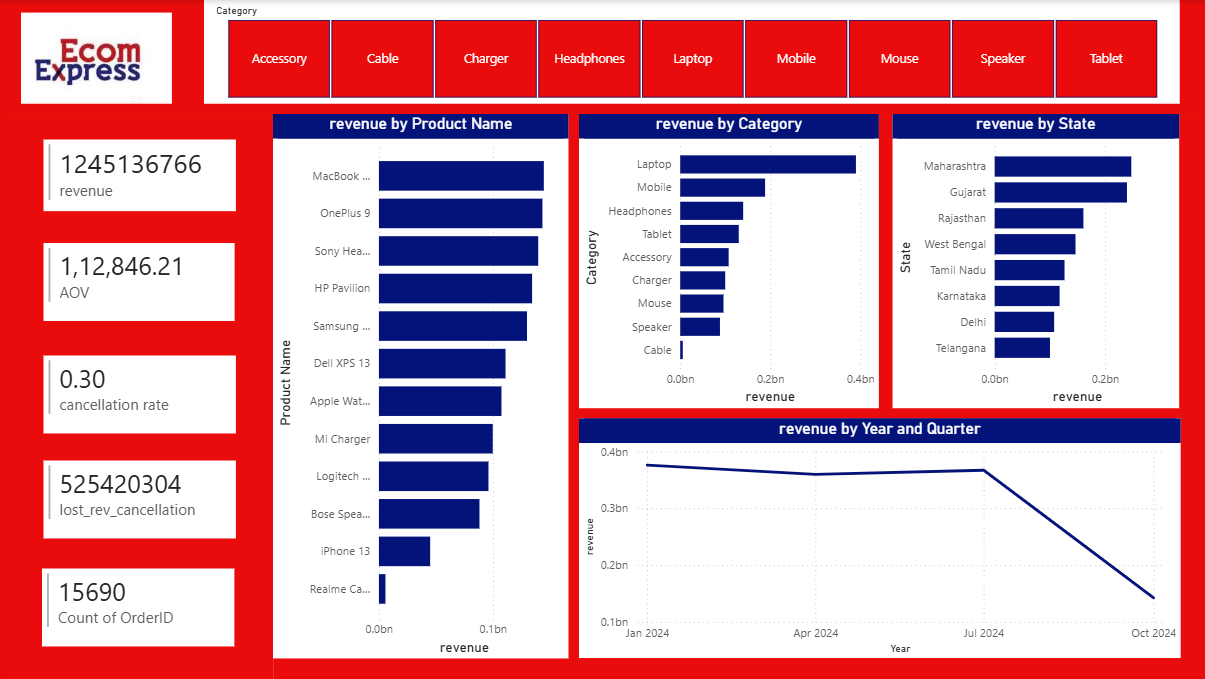

The page's visual inventory and layout, read from the dashboard file:
{"tool":"powerbi","page":{"name":"Page 1","canvas":[1280,720],"ordinal":0},"visuals":[{"type":"shape","box":[9.4,0,1269.9,120.9],"z":0},{"type":"image","box":[25.9,0,160.3,123.1],"z":1000},{"type":"shape","box":[9.7,121.4,283.4,599.1],"z":2000},{"type":"barChart","fields":{"Y":["table.revenue"],"Category":["Products.Product Name"]},"box":[292.7,120.9,313.4,577.4],"z":3000},{"type":"barChart","fields":{"Y":["table.revenue"],"Category":["Products.Category"]},"box":[617.2,120.9,318.1,311.8],"z":4000},{"type":"slicer","fields":{"Values":["Products.Category"]},"box":[220.2,0,1034.7,110.1],"z":5000},{"type":"barChart","fields":{"Category":["Customers.State"],"Y":["table.revenue"]},"box":[949.6,120.9,303.8,311.8],"z":6000},{"type":"lineChart","fields":{"Y":["table.revenue"],"Category":["Orders.Date and time of purchase.Variation.Date Hierarchy.Year","Orders.Date and time of purchase.Variation.Date Hierarchy.Quarter","Orders.Date and time of purchase.Variation.Date Hierarchy.Month","Orders.Date and time of purchase.Variation.Date Hierarchy.Day"]},"box":[616.9,443.7,638,254.2],"z":7000},{"type":"multiRowCard","fields":{"Values":["table.revenue"]},"box":[48.6,147.3,204,76.1],"z":8000},{"type":"multiRowCard","fields":{"Values":["table.AOV"]},"box":[48.6,257.5,202.4,82.6],"z":9000},{"type":"multiRowCard","fields":{"Values":["table.cancellation rate"]},"box":[48.6,377.3,204,82.6],"z":10000},{"type":"multiRowCard","fields":{"Values":["table.lost_rev_cancellation"]},"box":[48.6,489,204,82.6],"z":11000},{"type":"multiRowCard","fields":{"Values":["CountNonNull(Orders.OrderID)"]},"box":[47,602.4,204,82.6],"z":12000}]}

Visuals, with their boxes in screenshot pixels (x1, y1, x2, y2), scaled from the page's 1280x720 canvas onto the 1205x679 screenshot:
shape: (left=9, top=0, right=1204, bottom=114)
image: (left=24, top=0, right=175, bottom=116)
shape: (left=9, top=114, right=276, bottom=678)
barChart - table.revenue x Products.Product Name: (left=276, top=114, right=571, bottom=659)
barChart - table.revenue x Products.Category: (left=581, top=114, right=880, bottom=408)
slicer - Products.Category: (left=207, top=0, right=1181, bottom=104)
barChart - Customers.State x table.revenue: (left=894, top=114, right=1180, bottom=408)
lineChart - table.revenue x Orders.Date and time of purchase.Variation.Date Hierarchy.Year: (left=581, top=418, right=1181, bottom=658)
multiRowCard - table.revenue: (left=46, top=139, right=238, bottom=211)
multiRowCard - table.AOV: (left=46, top=243, right=236, bottom=321)
multiRowCard - table.cancellation rate: (left=46, top=356, right=238, bottom=434)
multiRowCard - table.lost_rev_cancellation: (left=46, top=461, right=238, bottom=539)
multiRowCard - CountNonNull(Orders.OrderID): (left=44, top=568, right=236, bottom=646)
